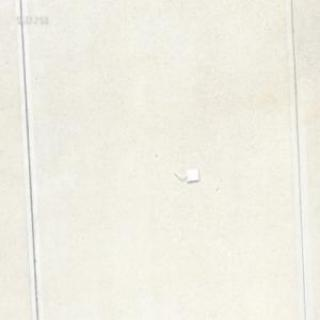LuggageTagtrack_idkeyframe: (172, 164, 199, 182)
